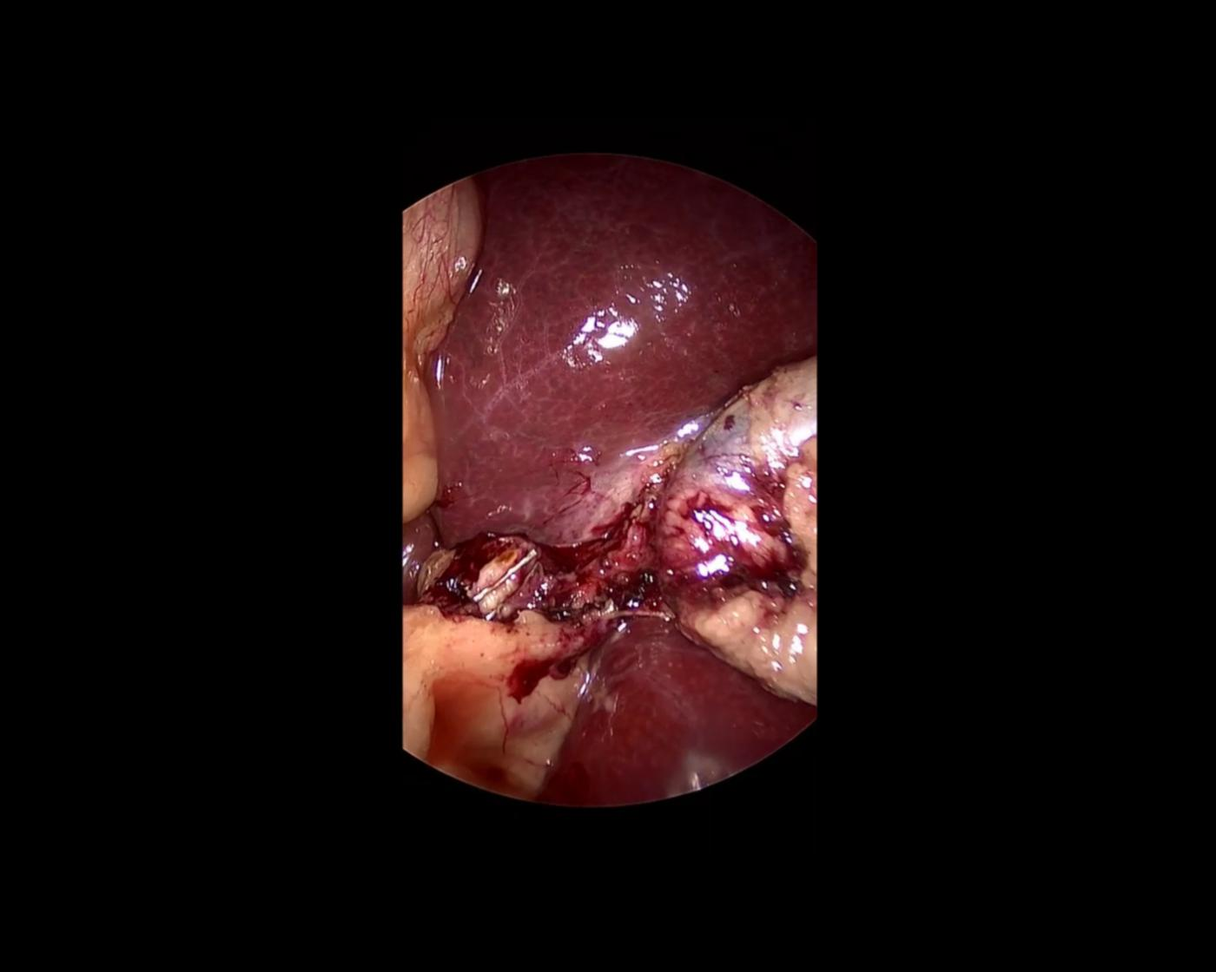Gallbladder: (661, 363, 815, 703)
Liver: (388, 135, 839, 663), (527, 607, 814, 896)
